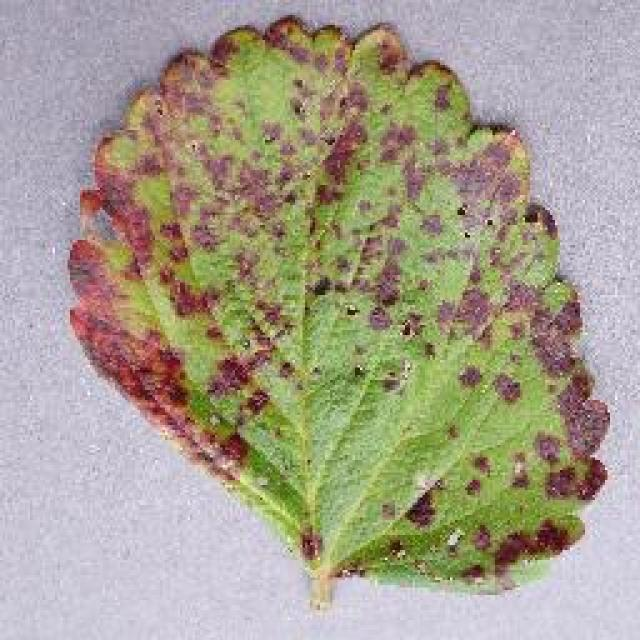Strawberry leaf scorch: (167, 71, 548, 512)
